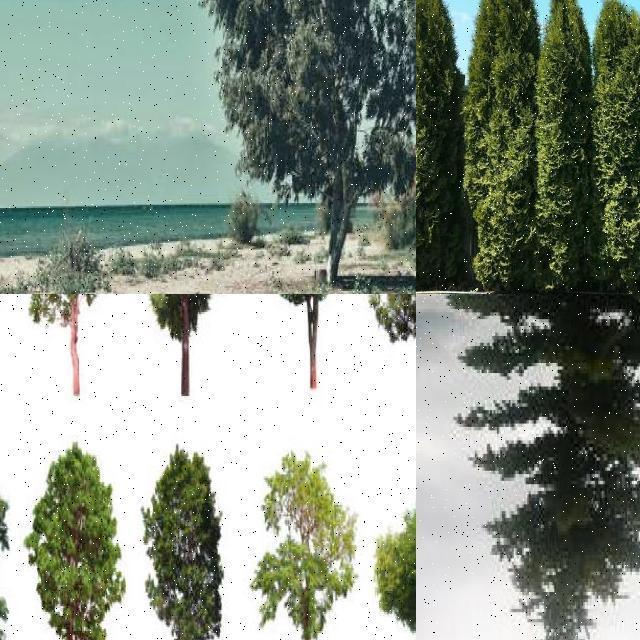tree: (416, 294, 640, 640), (186, 0, 416, 272), (250, 451, 357, 640), (24, 443, 123, 640), (466, 1, 530, 288), (142, 447, 222, 640), (252, 294, 360, 426), (538, 0, 586, 288), (27, 294, 121, 434), (144, 294, 232, 432), (600, 0, 640, 292), (416, 0, 456, 284), (0, 443, 36, 640), (416, 0, 436, 288), (0, 294, 32, 434)
